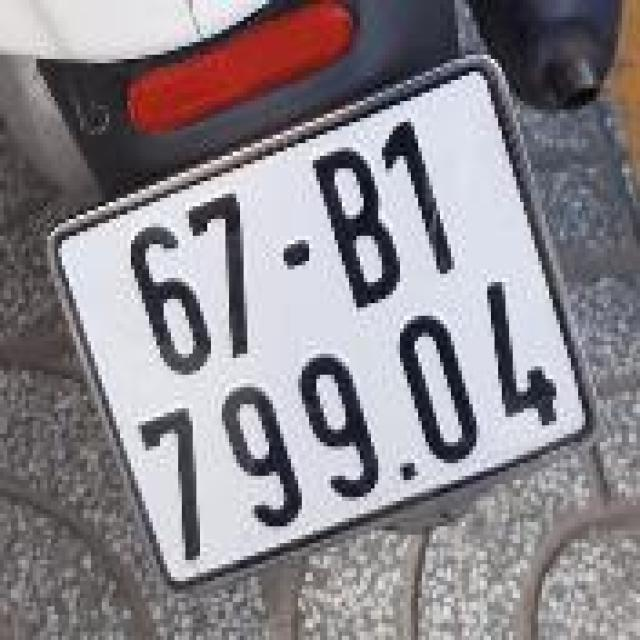0: (378, 302, 496, 477)
1: (366, 111, 469, 298)
4: (464, 263, 570, 451)
6: (116, 212, 228, 393)
7: (126, 393, 238, 572), (177, 184, 282, 366)
9: (208, 369, 321, 546), (288, 341, 394, 512)
B: (300, 131, 423, 329)
